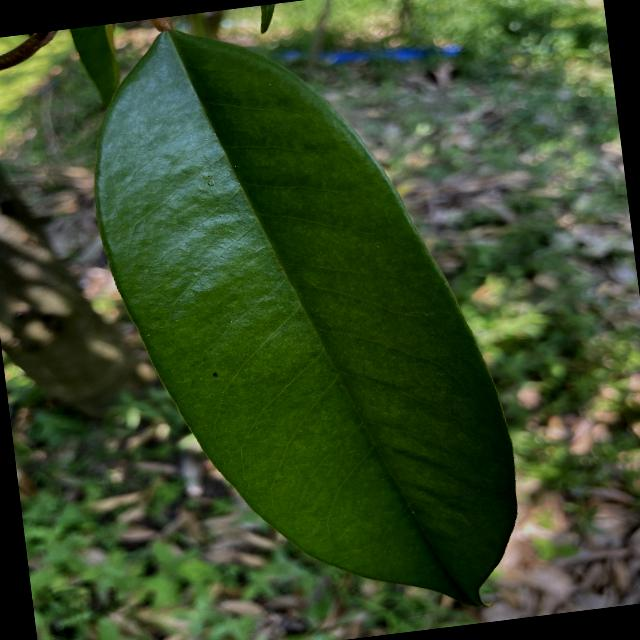No Disease: (62, 0, 544, 639)
